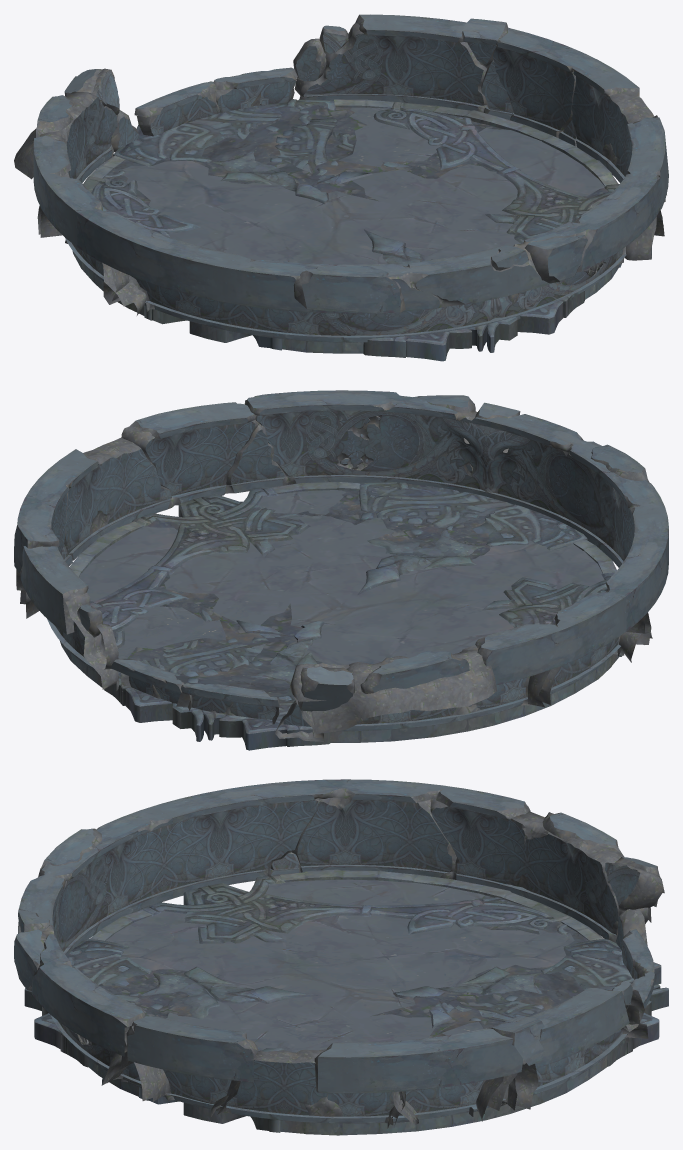
The model's file is BossStage.fbx.
3 views of the same model, one above another, from view 1: azimuth 30°, elevation 25°; view 2: azimuth 150°, elevation 25°; view 3: azimuth 270°, elevation 25° (orthographic). The views are drawn at different scales.
Parts seen in each view (by area): view 1: Area_MdBuild_WdWall01_Lod0, Area_MdBuild_WdPlatform01_Lod0; view 2: Area_MdBuild_WdWall01_Lod0, Area_MdBuild_WdPlatform01_Lod0; view 3: Area_MdBuild_WdWall01_Lod0, Area_MdBuild_WdPlatform01_Lod0.
Boxes of the visible parts, bbox=[...] form: Area_MdBuild_WdWall01_Lod0: bbox=[14, 14, 668, 342]; Area_MdBuild_WdPlatform01_Lod0: bbox=[72, 99, 621, 361]; Area_MdBuild_WdWall01_Lod0: bbox=[14, 390, 668, 741]; Area_MdBuild_WdPlatform01_Lod0: bbox=[60, 482, 622, 750]; Area_MdBuild_WdWall01_Lod0: bbox=[14, 779, 664, 1128]; Area_MdBuild_WdPlatform01_Lod0: bbox=[24, 869, 668, 1135].
Bounding box in the file's own units: 1079 × 180 × 1073.
